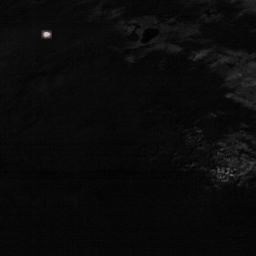Target: (41, 30, 51, 38)
